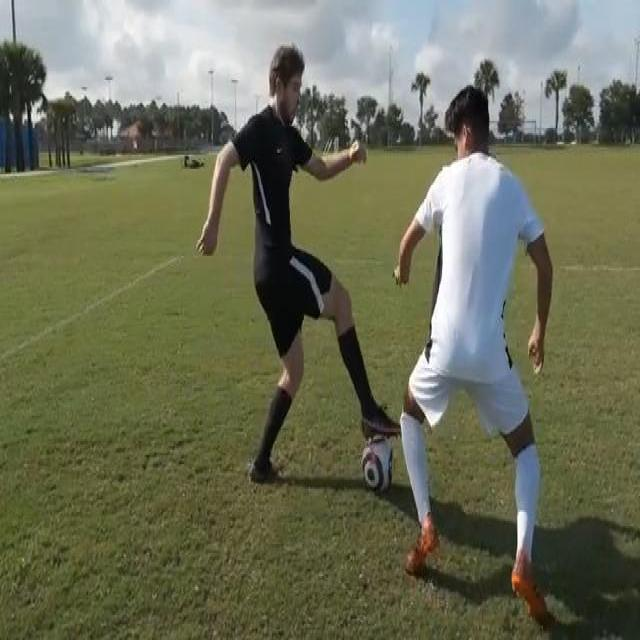Soccer Ball: (364, 433, 394, 491)
